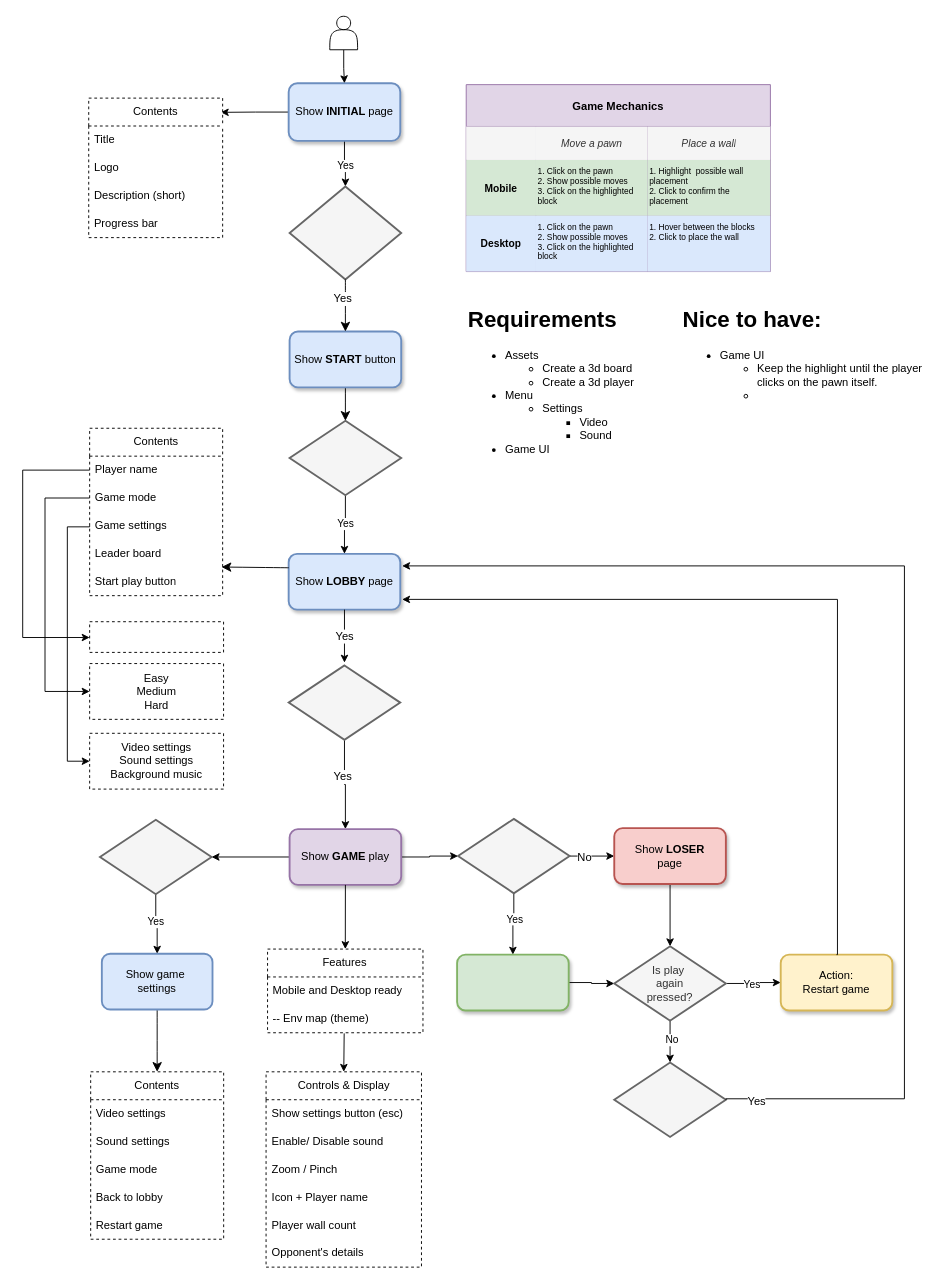
This 943x1283 diagram has some shape labels left out. The centre of each missing label's shape, as x and y in pixels:
Did player WIN?: (x=513, y=855)
Is 100% loaded?: (x=345, y=232)
Is back to Lobby Pressed?: (x=669, y=1099)
Is ESC pressed?: (x=155, y=856)
Is it Clicked?: (x=345, y=457)
Saved in DB: (x=156, y=636)
Show WINNER page: (x=513, y=983)
Start btn clicked?: (x=344, y=702)
